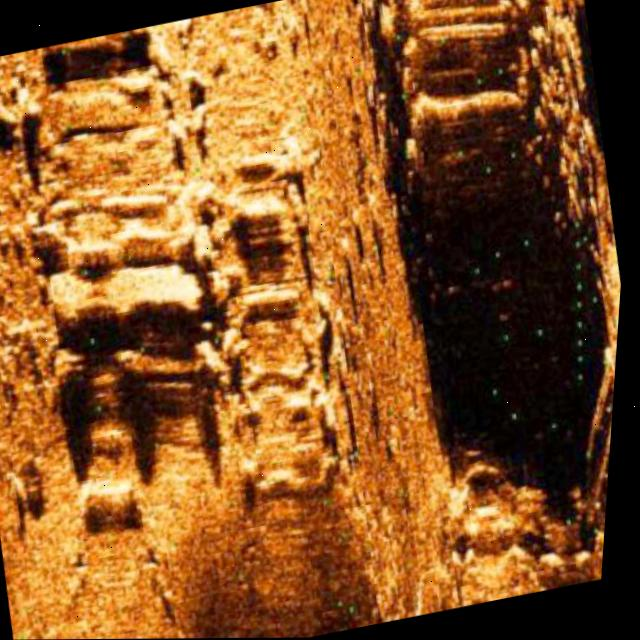bedrock group: (0, 0, 399, 560), (332, 0, 629, 281)
